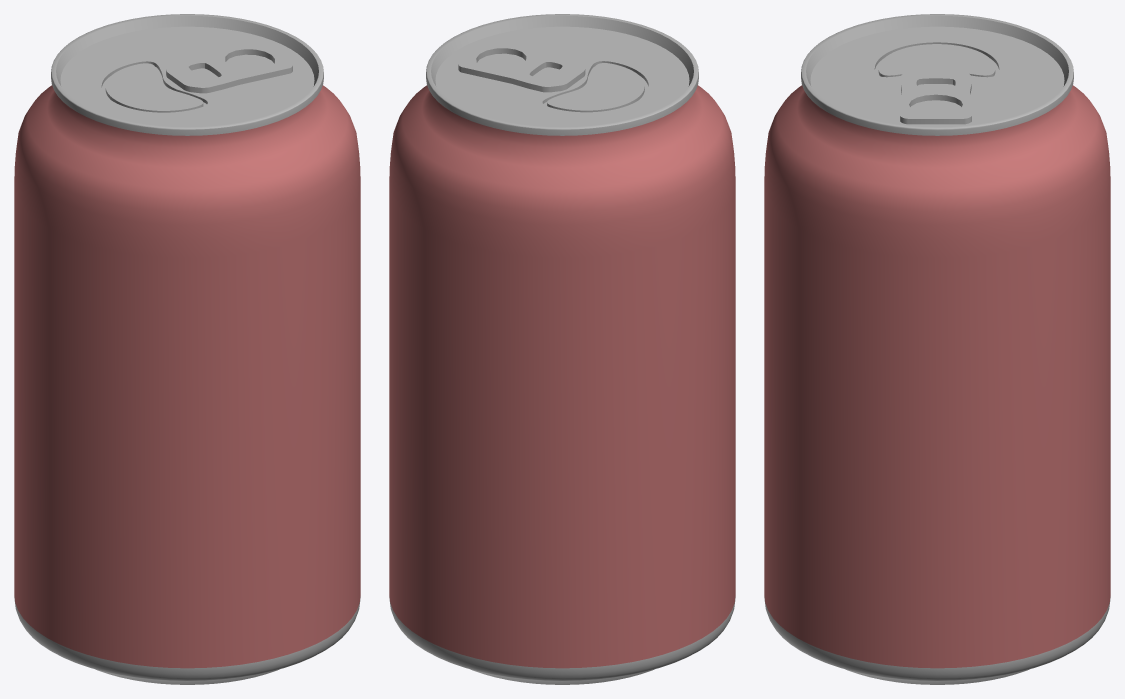
Rendered from Coke.fbx.
The picture shows the model from 3 angles, left to right: view 1: azimuth 30°, elevation 25°; view 2: azimuth 150°, elevation 25°; view 3: azimuth 270°, elevation 25°; orthographic projection.
Parts seen in each view (by area): view 1: SodaCan.001; view 2: SodaCan.001; view 3: SodaCan.001.
Boxes of the visible parts, x1,y1,x2,y2 form: SodaCan.001: (14,14,360,684); SodaCan.001: (389,14,735,684); SodaCan.001: (764,14,1110,684).
Bounding box in the file's own units: 13.01 × 23.08 × 13.01.
